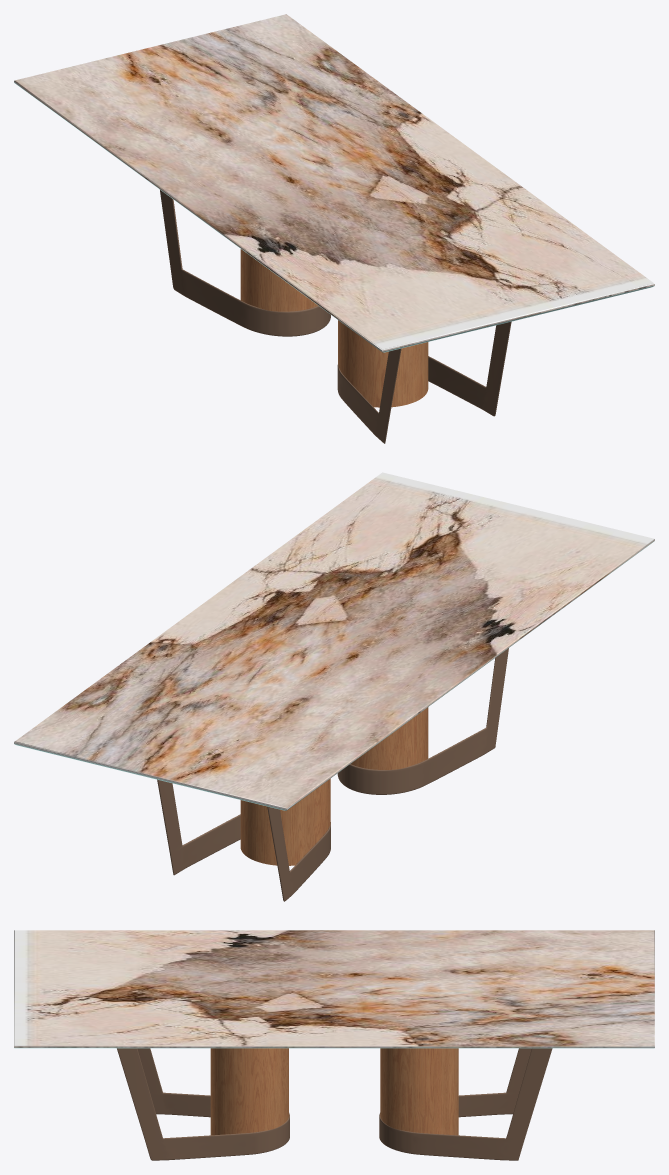
The model's file is SBH_Wrap_Around.glb.
The picture shows the model from 3 angles, top to bottom: view 1: azimuth 30°, elevation 25°; view 2: azimuth 150°, elevation 25°; view 3: azimuth 270°, elevation 25°; orthographic projection. The views are drawn at different scales.
Parts seen in each view (by area): view 1: Wrap Around; view 2: Wrap Around; view 3: Wrap Around.
Part boxes in pixels (left/top/right/bottom): Wrap Around: left=14, top=14, right=654, bottom=443; Wrap Around: left=14, top=472, right=654, bottom=901; Wrap Around: left=14, top=930, right=654, bottom=1160.
Size of the model in its own units: 0.6252 by 0.3758 by 1.46.
4 materials, 2 textured.
